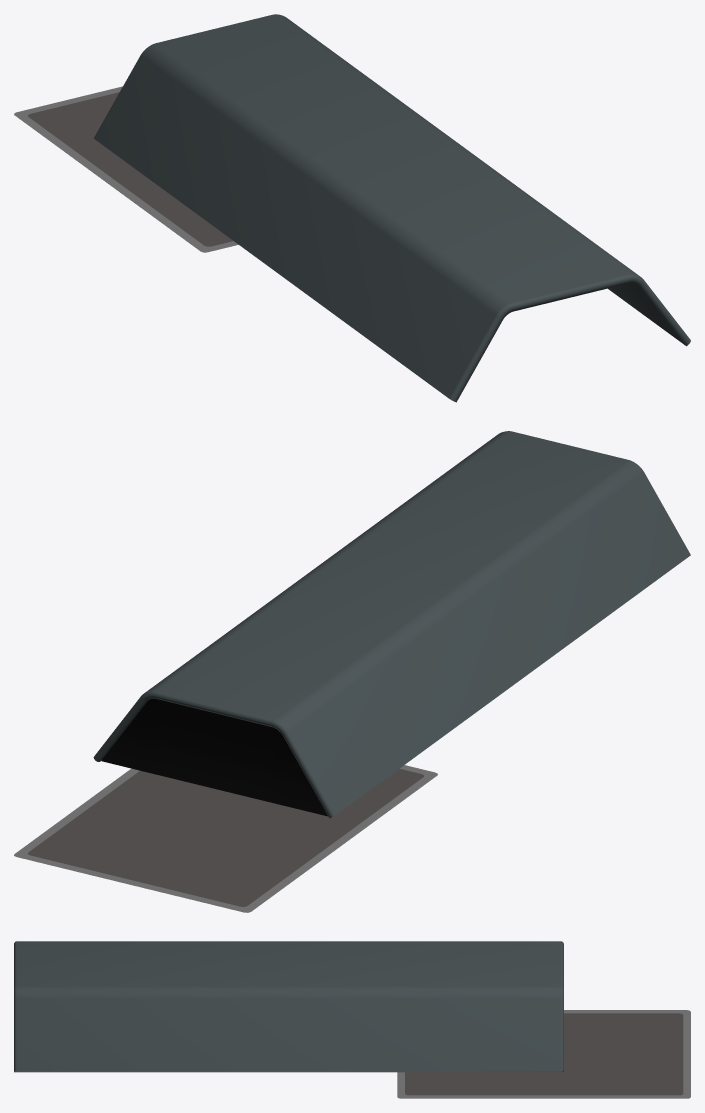
Rendered from EnemyGridController.fbx.
3 views of the same model, one above another, from view 1: azimuth 30°, elevation 25°; view 2: azimuth 150°, elevation 25°; view 3: azimuth 270°, elevation 25° (orthographic). The views are drawn at different scales.
Parts seen in each view (by area): view 1: tunnel, top_base; view 2: tunnel, top_base; view 3: tunnel, top_base.
Boxes of the visible parts, x1,y1,x2,y2 form: tunnel: [94, 14, 690, 402]; top_base: [14, 86, 238, 252]; tunnel: [93, 431, 690, 818]; top_base: [14, 765, 437, 912]; tunnel: [14, 941, 563, 1072]; top_base: [397, 1010, 690, 1098].
Size of the model in its own units: 1108 by 514 by 3507.
